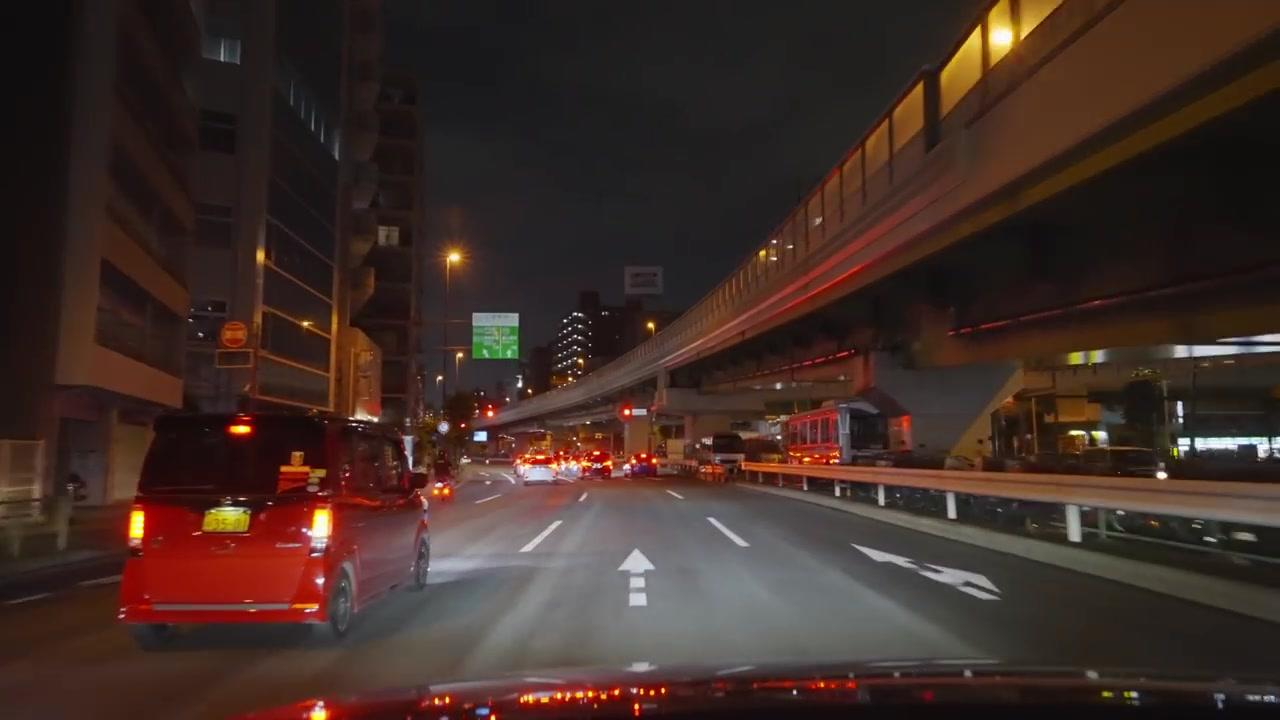bus: (780, 403, 895, 464)
car: (118, 410, 433, 650), (628, 454, 658, 479), (585, 453, 612, 480), (428, 476, 455, 503), (523, 462, 555, 483), (557, 464, 582, 480)
traffic light: (484, 404, 496, 418), (620, 406, 632, 419)
